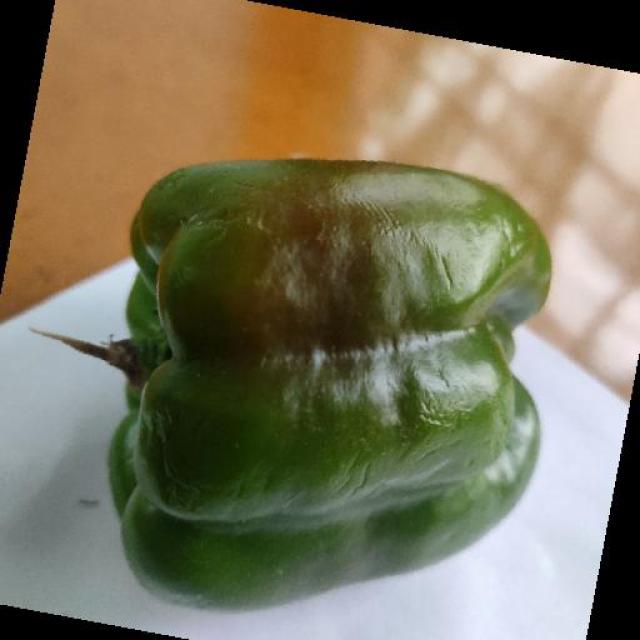Stale_Capsicum: (121, 166, 518, 579)
